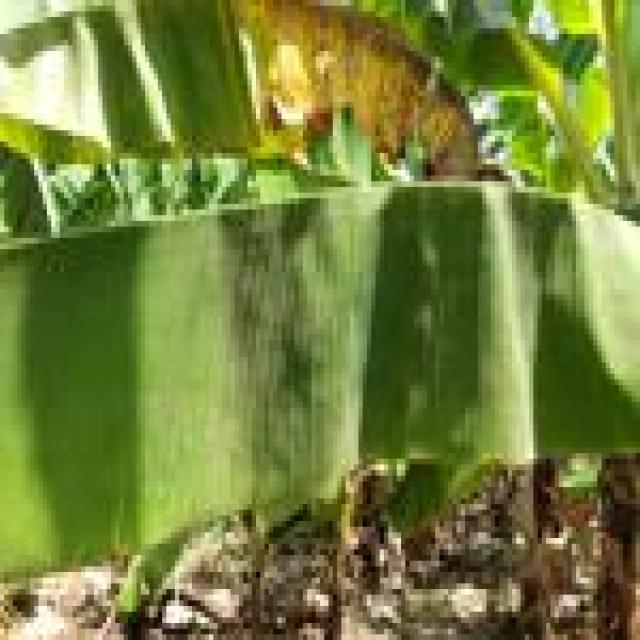Early_rust: (167, 0, 503, 233)
